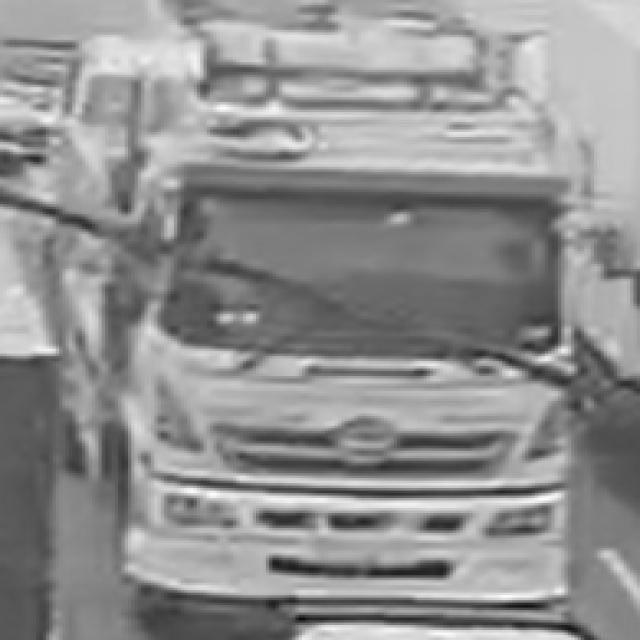Truck: (29, 21, 622, 630)
